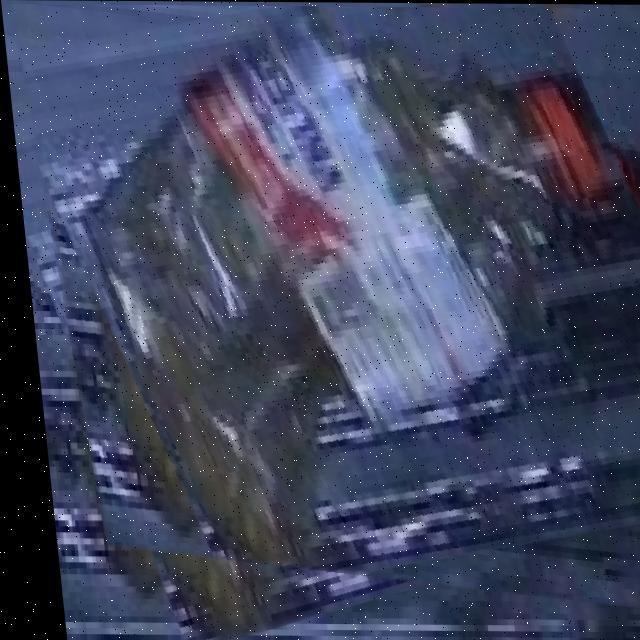plasticbottle: (4, 4, 640, 620)
